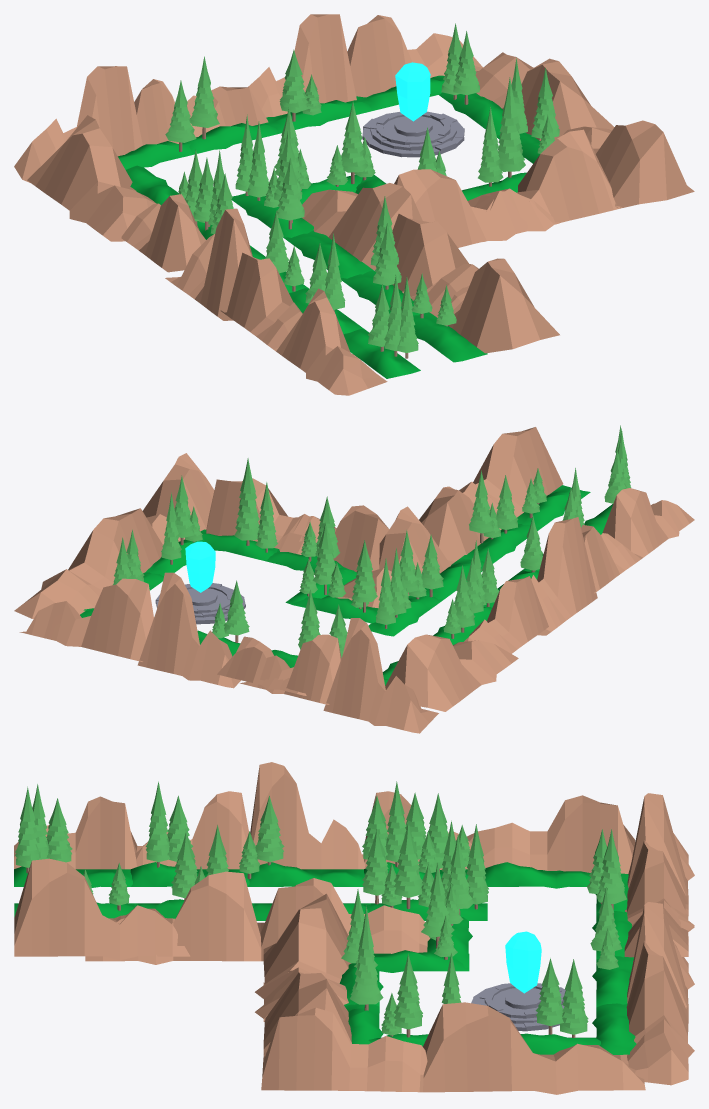
The model's file is gameLevel_rock.glb.
3 views of the same model, one above another, from view 1: azimuth 30°, elevation 25°; view 2: azimuth 150°, elevation 25°; view 3: azimuth 270°, elevation 25° (orthographic). The views are drawn at different scales.
Visible parts, largest first — view 1: Object_4, Object_9, Object_5, Object_8, Object_3, Object_2; view 2: Object_4, Object_9, Object_5, Object_8, Object_3, Object_2; view 3: Object_4, Object_9, Object_5, Object_8, Object_3, Object_2, Object_10.
Boxes of the visible parts, x1,y1,x2,y2 form: Object_4: [14, 14, 694, 395]; Object_9: [167, 32, 559, 352]; Object_5: [118, 75, 539, 378]; Object_8: [165, 23, 556, 347]; Object_3: [362, 111, 464, 157]; Object_2: [395, 62, 430, 121]; Object_4: [14, 427, 694, 733]; Object_9: [113, 433, 631, 654]; Object_5: [80, 485, 612, 685]; Object_8: [114, 425, 630, 657]; Object_3: [155, 583, 245, 624]; Object_2: [185, 541, 215, 592]; Object_4: [14, 762, 694, 1094]; Object_9: [15, 791, 624, 1035]; Object_5: [14, 862, 636, 1054]; Object_8: [17, 781, 626, 1034]; Object_3: [471, 983, 565, 1031]; Object_2: [505, 931, 541, 993]; Object_10: [269, 823, 588, 1028].
Bounding box in the file's own units: 18.49 × 4.42 × 20.58.
